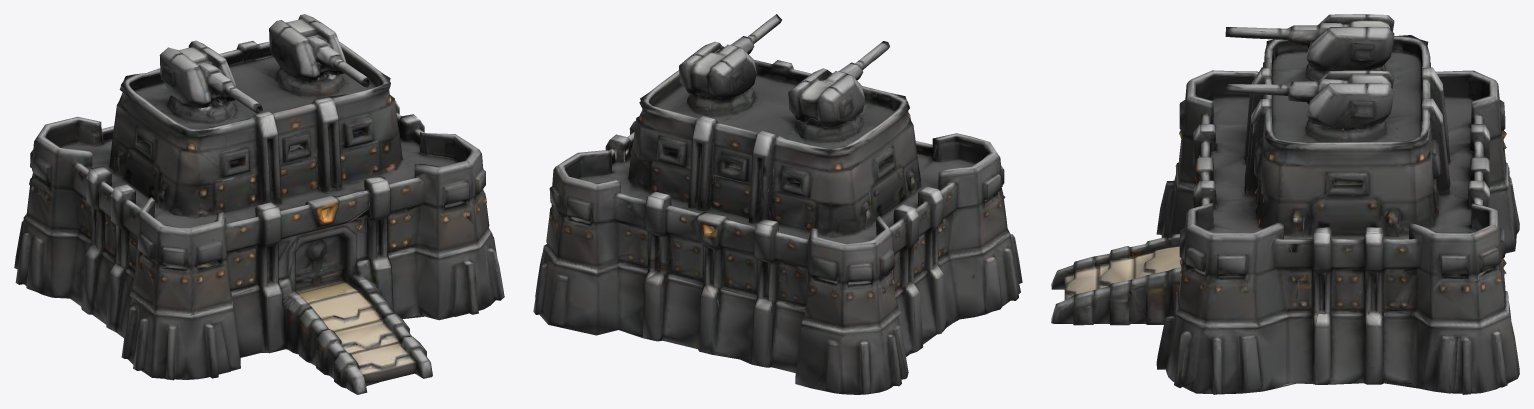
Rendered from planetary_fortress.glb.
3 renders of one model, left to right at view 1: azimuth 30°, elevation 25°; view 2: azimuth 150°, elevation 25°; view 3: azimuth 270°, elevation 25°, orthographic. The views are drawn at different scales.
Parts seen in each view (by area): view 1: Mesh1.0; view 2: Mesh1.0; view 3: Mesh1.0.
Boxes of the visible parts, box(x1,y1,x2,y2) form: Mesh1.0: box(14, 14, 504, 394); Mesh1.0: box(533, 14, 1022, 394); Mesh1.0: box(1051, 14, 1519, 394).
Bounding box in the file's own units: 1.82 × 1.15 × 1.91.
1 material, 1 textured.
